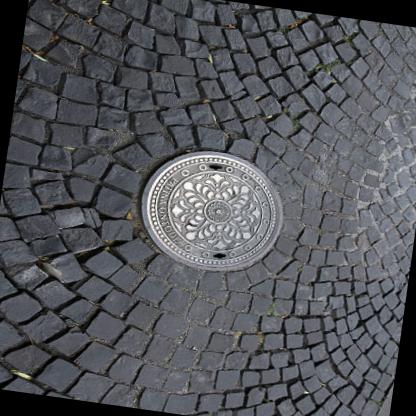manholes: (113, 123, 310, 301)
